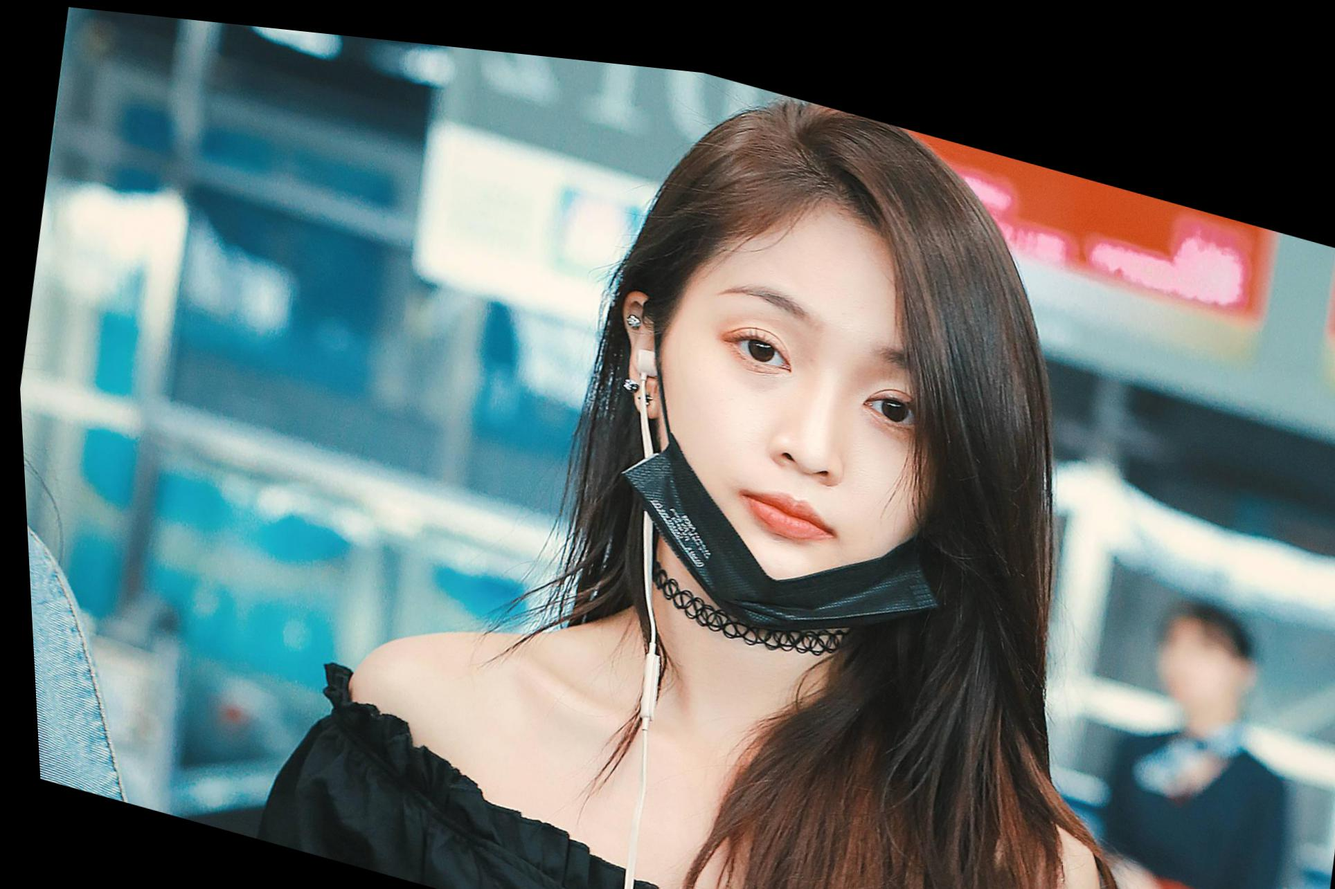NONE: (1144, 587, 1231, 687)
WRONG: (616, 190, 996, 647)
